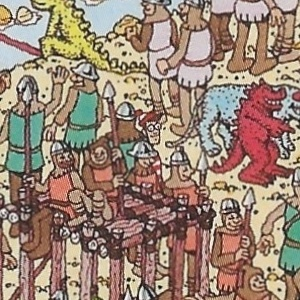Charlie: (136, 110, 164, 190)
